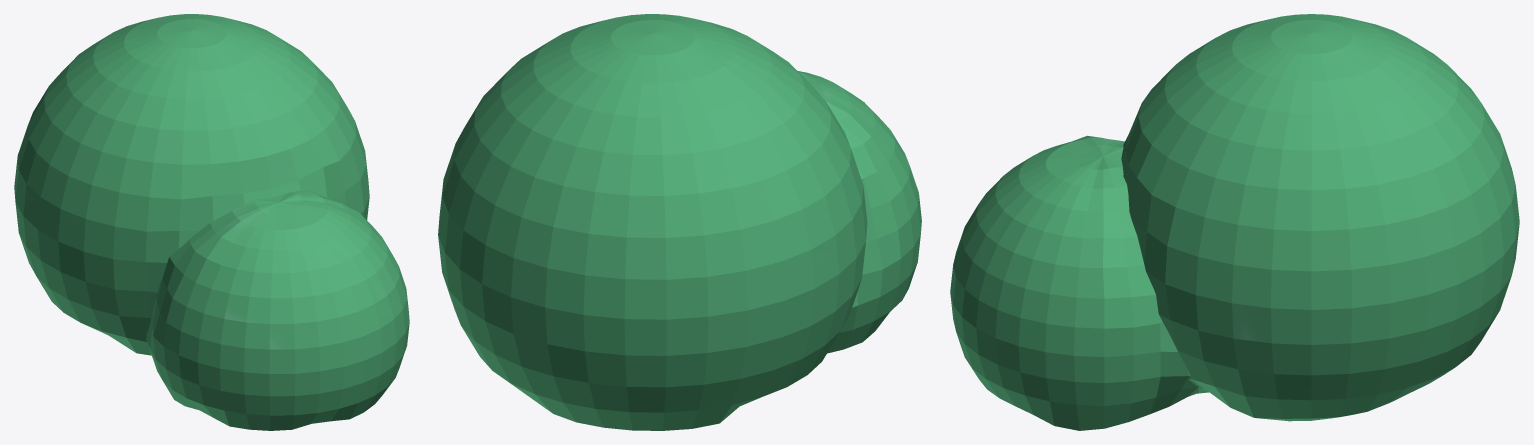
Rendered from busk.fbx.
The picture shows the model from 3 angles, left to right: view 1: azimuth 30°, elevation 25°; view 2: azimuth 150°, elevation 25°; view 3: azimuth 270°, elevation 25°; orthographic projection. The views are drawn at different scales.
Visible parts, largest first — view 1: Sphere; view 2: Sphere; view 3: Sphere.
Part boxes in pixels (bbox=[...]): Sphere: bbox=[14, 14, 409, 430]; Sphere: bbox=[438, 14, 921, 430]; Sphere: bbox=[950, 14, 1519, 430].
Size of the model in its own units: 3.27 by 3.11 by 4.48.
Materials: 1 (1 with a texture image).
